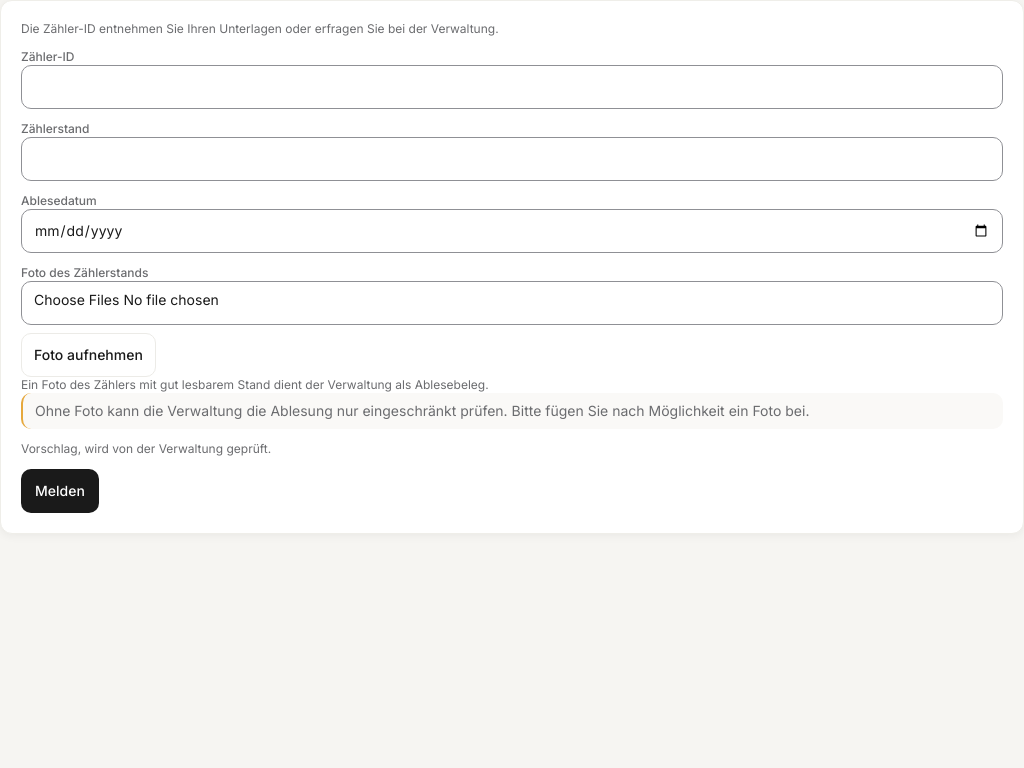
Scenario: MeterReadingForm › shows the API error (403)
In the field with id "meter-id": (512, 87) [21,65,1003,109], type "M-1"
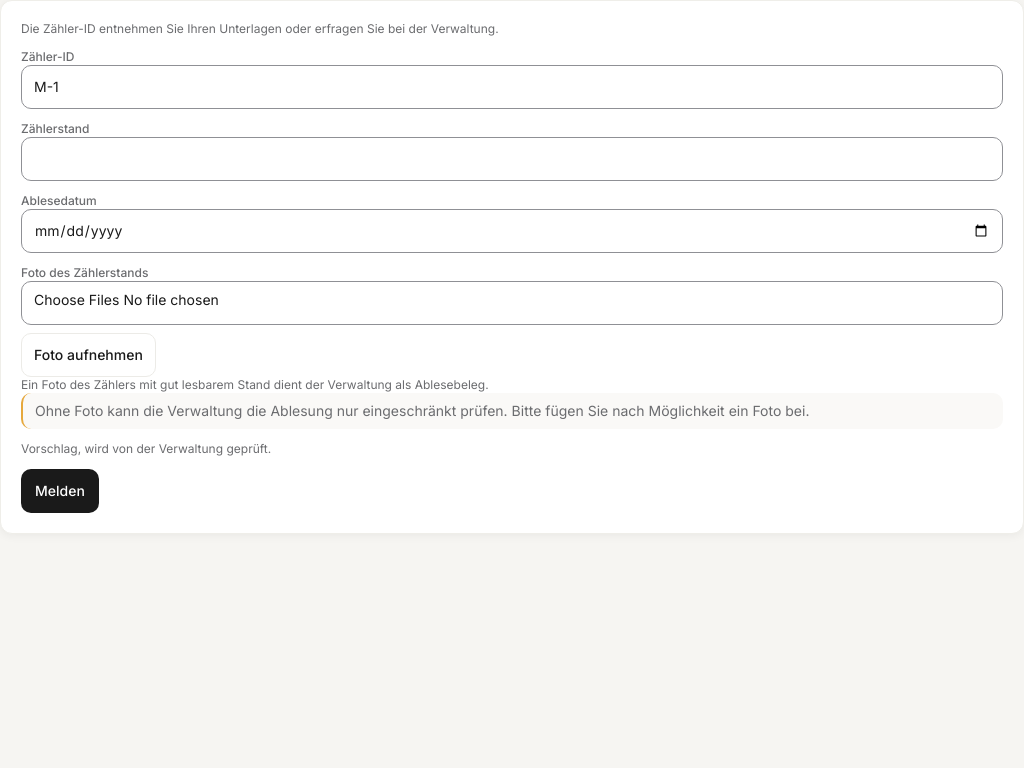
In the field with id "meter-value": (512, 159) [21,137,1003,181], type "1"
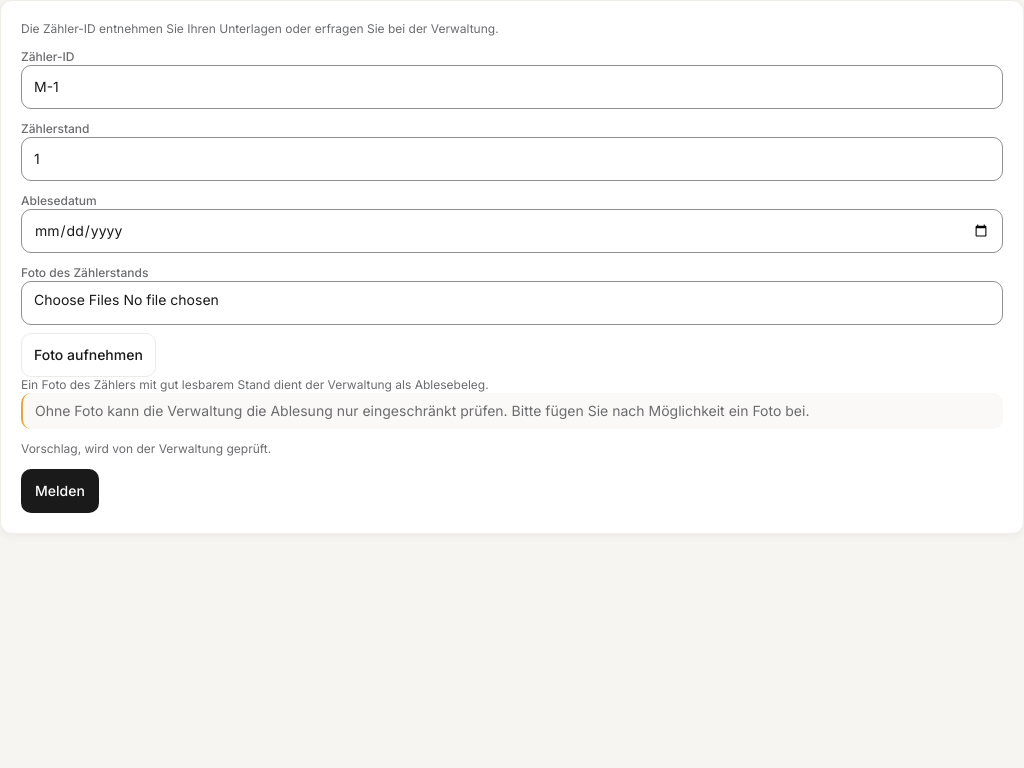
In the date field with id "meter-date": (512, 231) [21,209,1003,253], type "2026-10-01"
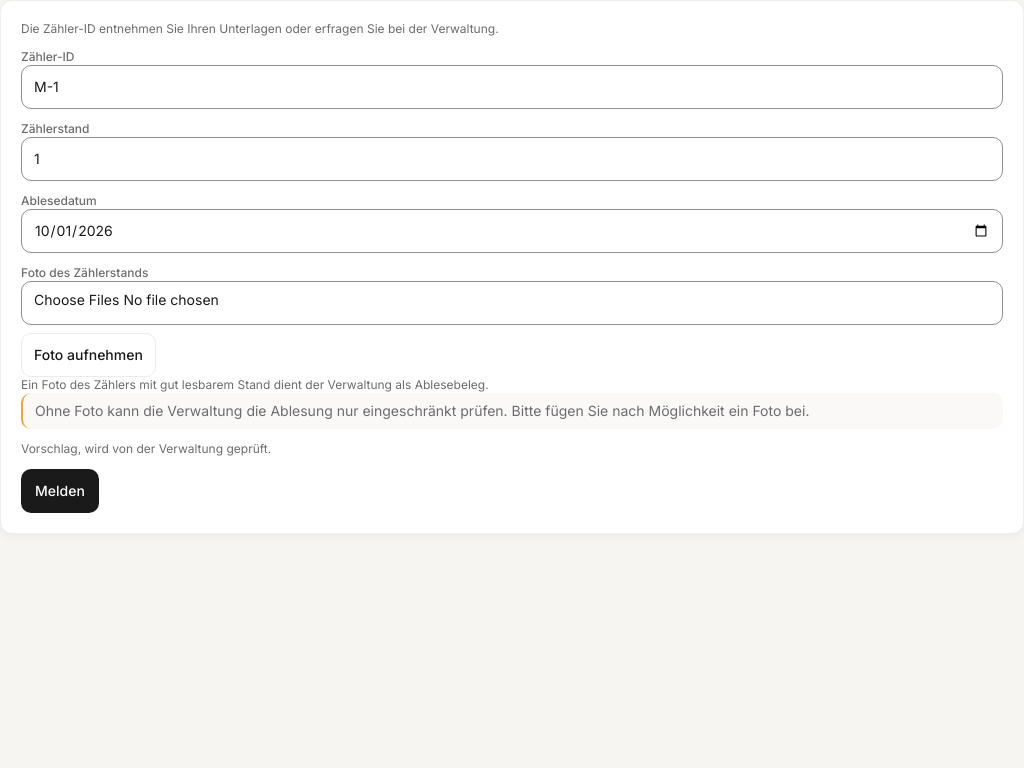
Click the button: (60, 491) [21,469,99,513]
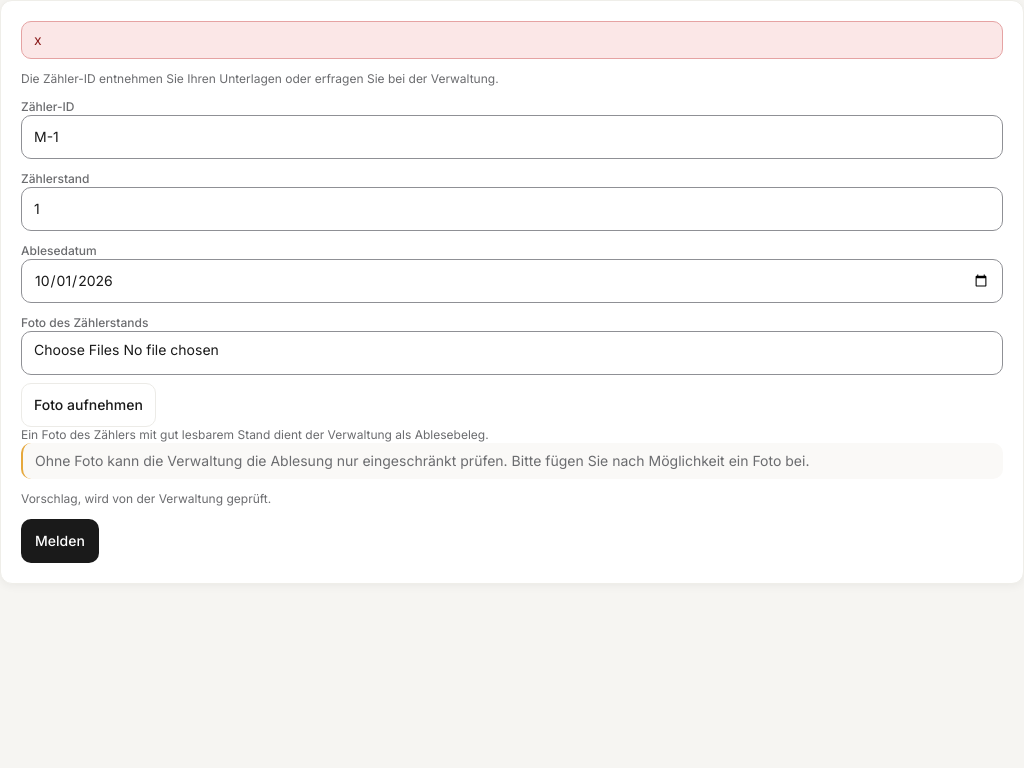
Check: the message "x" is shown, box [21,21,1003,59]
